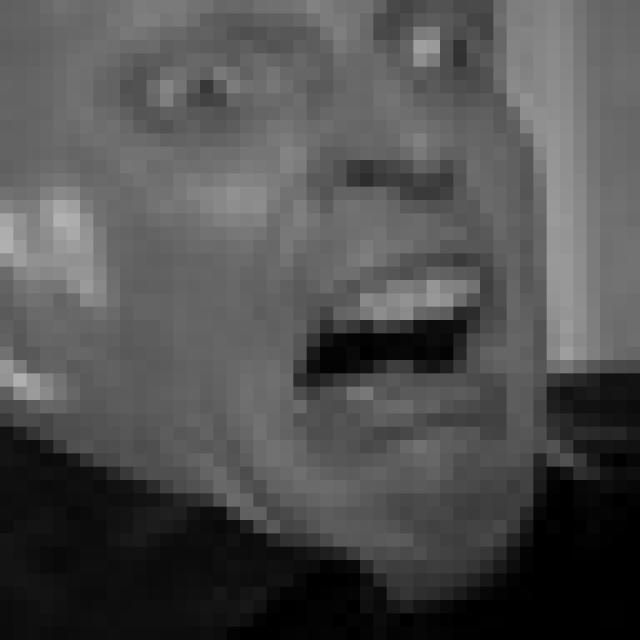fear: (116, 5, 534, 476)
